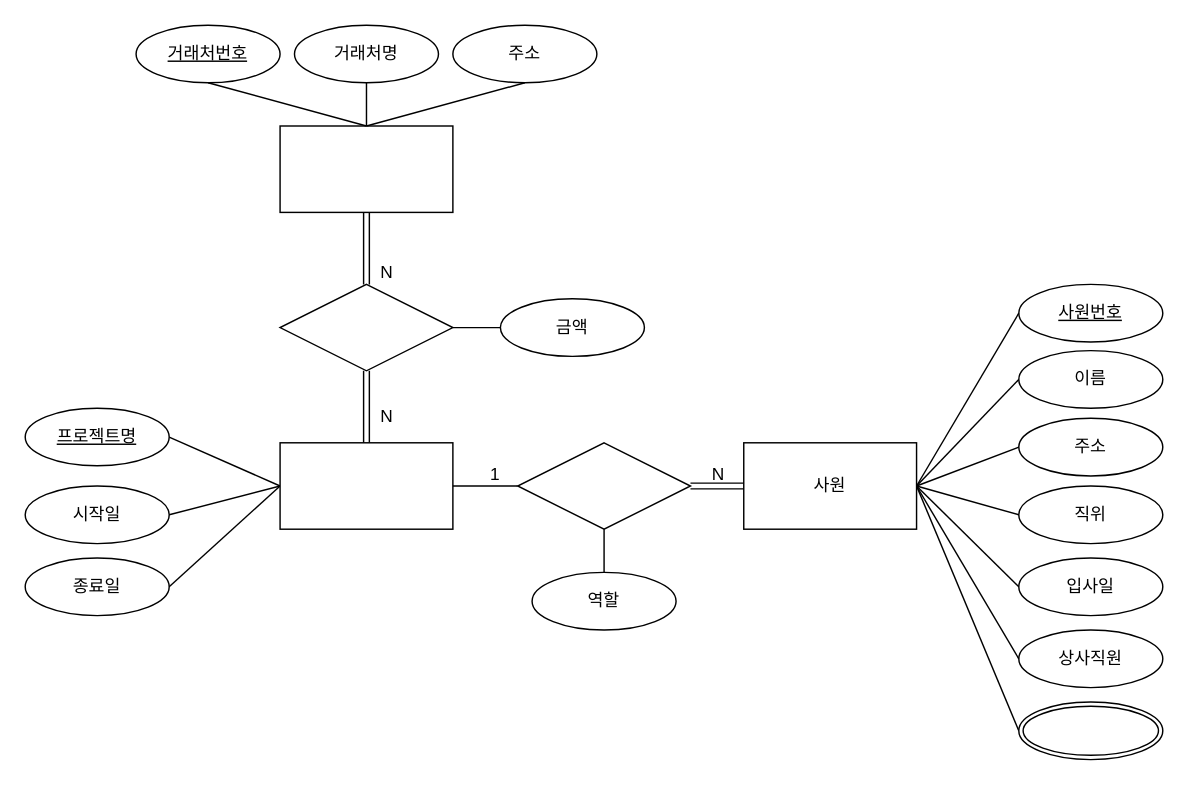
The diagram is 1188 pixels wide and 785 high, and some of its shapes have lost their labels. Each missing label, with the box of its shape:
거래처: (279, 125, 453, 212)
담당: (516, 441, 690, 529)
부하직원: (1017, 701, 1163, 760)
수주: (279, 283, 453, 371)
프로젝트: (279, 441, 453, 529)
